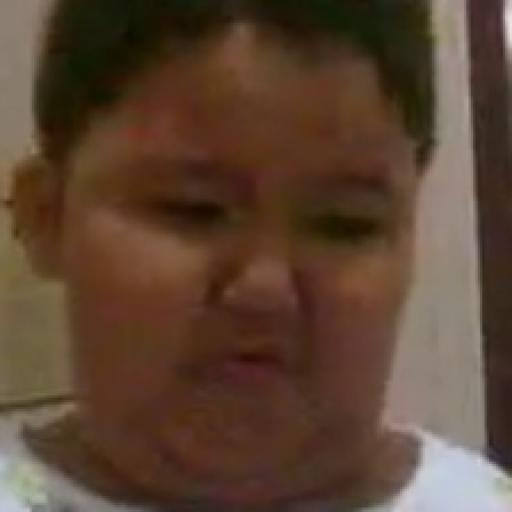Autism: (0, 0, 482, 473)
